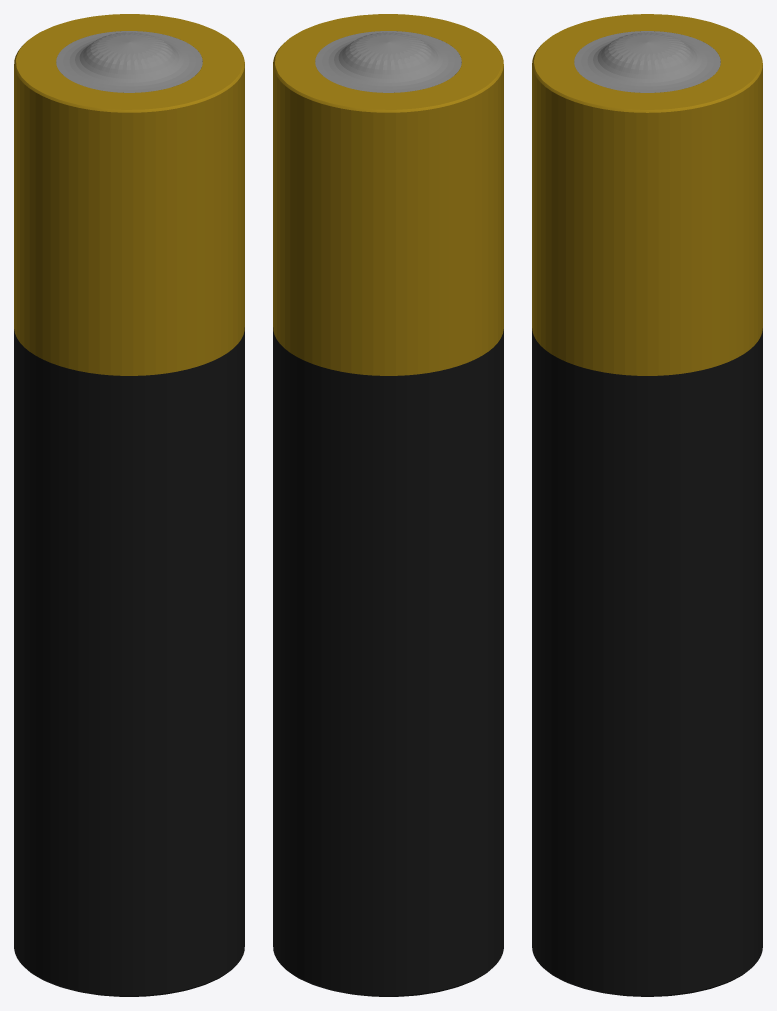
File: battery.fbx
The picture shows the model from 3 angles, left to right: view 1: azimuth 30°, elevation 25°; view 2: azimuth 150°, elevation 25°; view 3: azimuth 270°, elevation 25°; orthographic projection.
Visible parts, largest first — view 1: Battery Black Label, Battery Gold Label, Cylinder; view 2: Battery Black Label, Battery Gold Label, Cylinder; view 3: Battery Black Label, Battery Gold Label, Cylinder.
Boxes of the visible parts, x1,y1,x2,y2 form: Battery Black Label: (14,327,244,996); Battery Gold Label: (14,14,244,375); Cylinder: (56,31,202,92); Battery Black Label: (273,327,503,996); Battery Gold Label: (273,14,503,375); Cylinder: (315,31,461,92); Battery Black Label: (532,328,762,996); Battery Gold Label: (532,14,762,375); Cylinder: (574,31,720,92).
Bounding box in the file's own units: 1.01 × 4.42 × 1.01.
